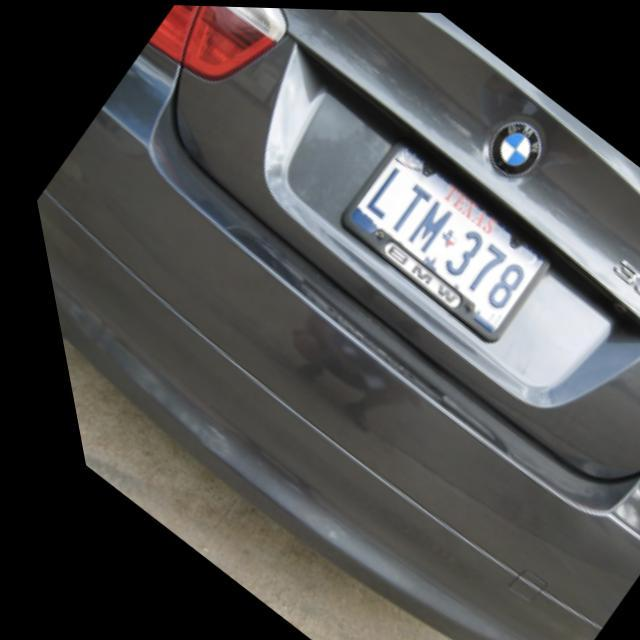license_plate: (320, 127, 561, 338)
